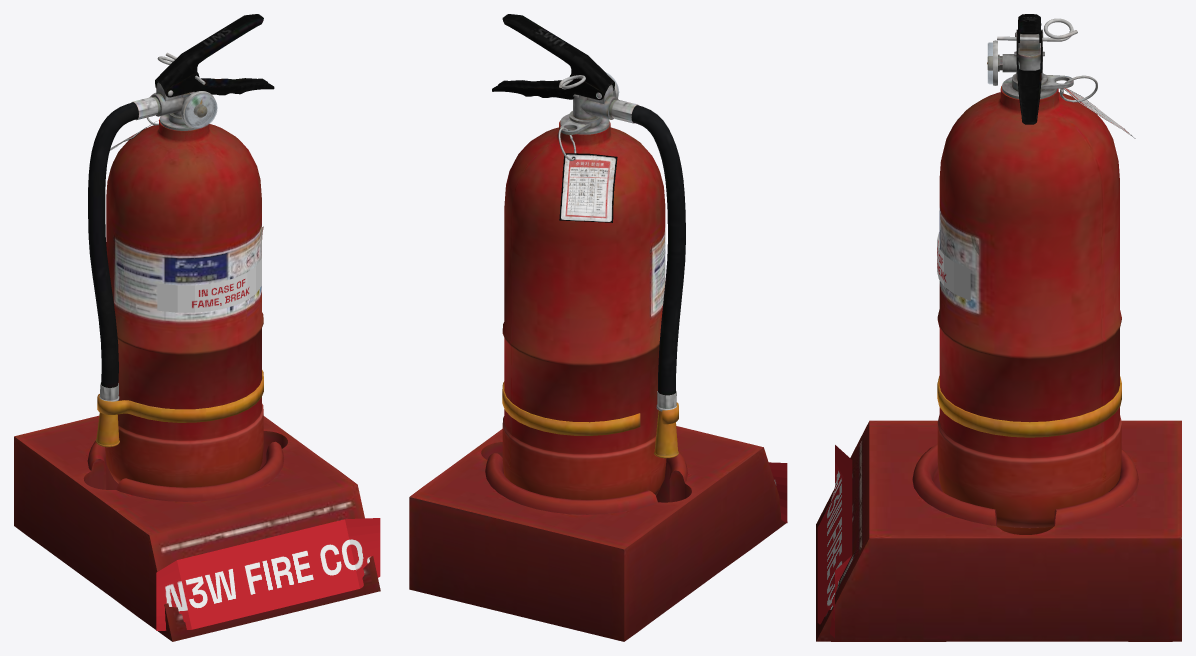
Rendered from nyb_extinguisher.glb.
3 views of the same model, side by side, from view 1: azimuth 30°, elevation 25°; view 2: azimuth 150°, elevation 25°; view 3: azimuth 270°, elevation 25° (orthographic). The views are drawn at different scales.
Parts seen in each view (by area): view 1: korean_fire_extinguisher_01, stk_lbl_eff7ea4517.png, stk_lbl_5ac6b88406.png; view 2: korean_fire_extinguisher_01, stk_lbl_eff7ea4517.png; view 3: korean_fire_extinguisher_01, stk_lbl_eff7ea4517.png, stk_lbl_5ac6b88406.png.
Part boxes in pixels (box(x1,y1,x2,y2)): korean_fire_extinguisher_01: box(14, 14, 380, 641); stk_lbl_eff7ea4517.png: box(156, 518, 380, 630); stk_lbl_5ac6b88406.png: box(157, 258, 261, 312); korean_fire_extinguisher_01: box(409, 14, 787, 641); stk_lbl_eff7ea4517.png: box(768, 462, 787, 522); korean_fire_extinguisher_01: box(816, 14, 1181, 641); stk_lbl_eff7ea4517.png: box(817, 445, 852, 637); stk_lbl_5ac6b88406.png: box(937, 232, 970, 300).
Size of the model in its own units: 0.3 by 0.6593 by 0.3674.
5 materials, 5 textured.
